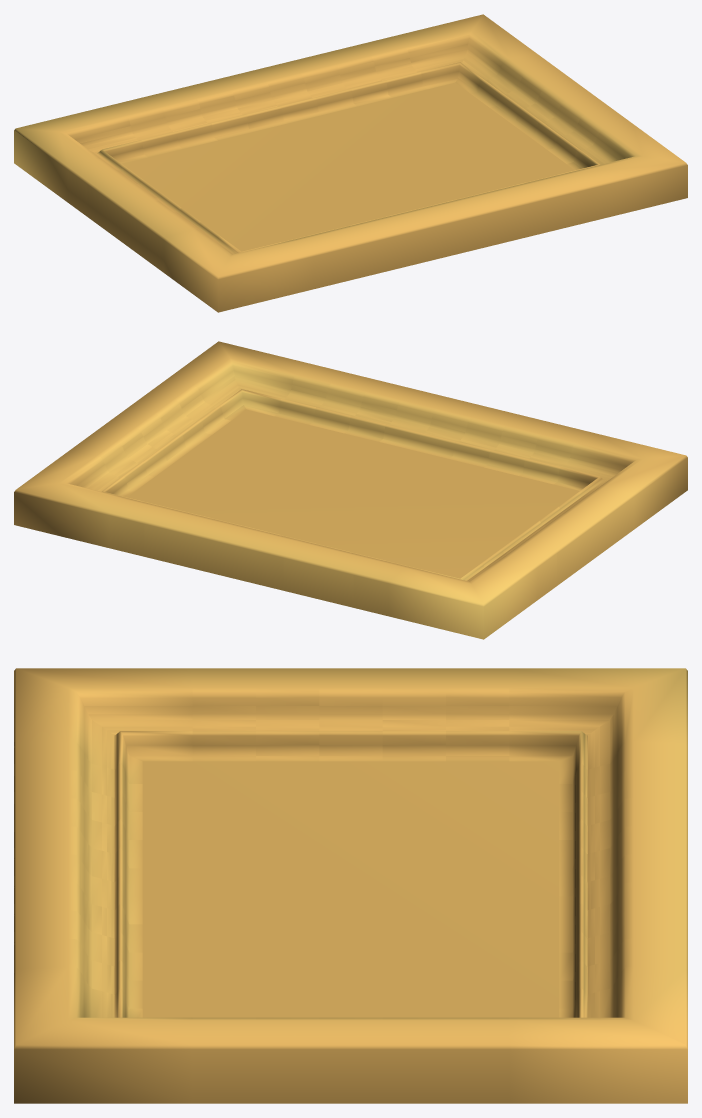
Rendered from frame.glb.
3 renders of one model, top to bottom at view 1: azimuth 30°, elevation 25°; view 2: azimuth 150°, elevation 25°; view 3: azimuth 270°, elevation 25°, orthographic. The views are drawn at different scales.
Parts seen in each view (by area): view 1: Frame; view 2: Frame; view 3: Frame.
Boxes of the visible parts, left/top/right/bottom form: Frame: left=14, top=14, right=687, bottom=312; Frame: left=14, top=341, right=687, bottom=639; Frame: left=14, top=668, right=687, bottom=1103.
Bounding box in the file's own units: 4.04 × 0.3 × 3.04.
